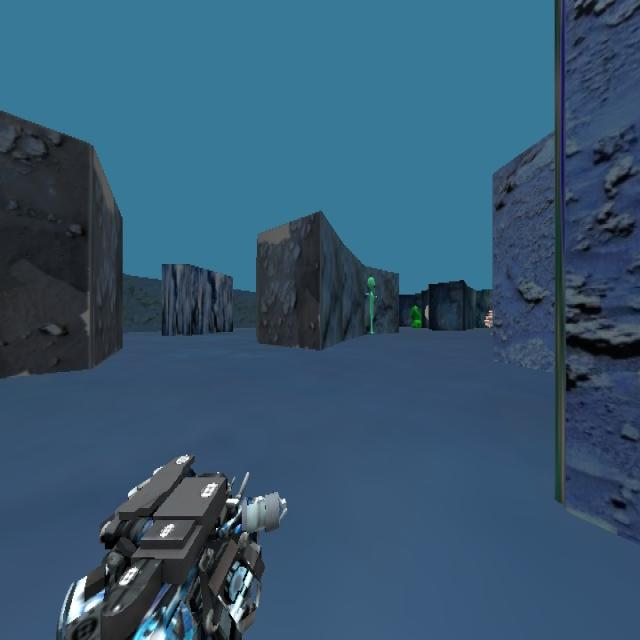Alien: (364, 275, 377, 333)
